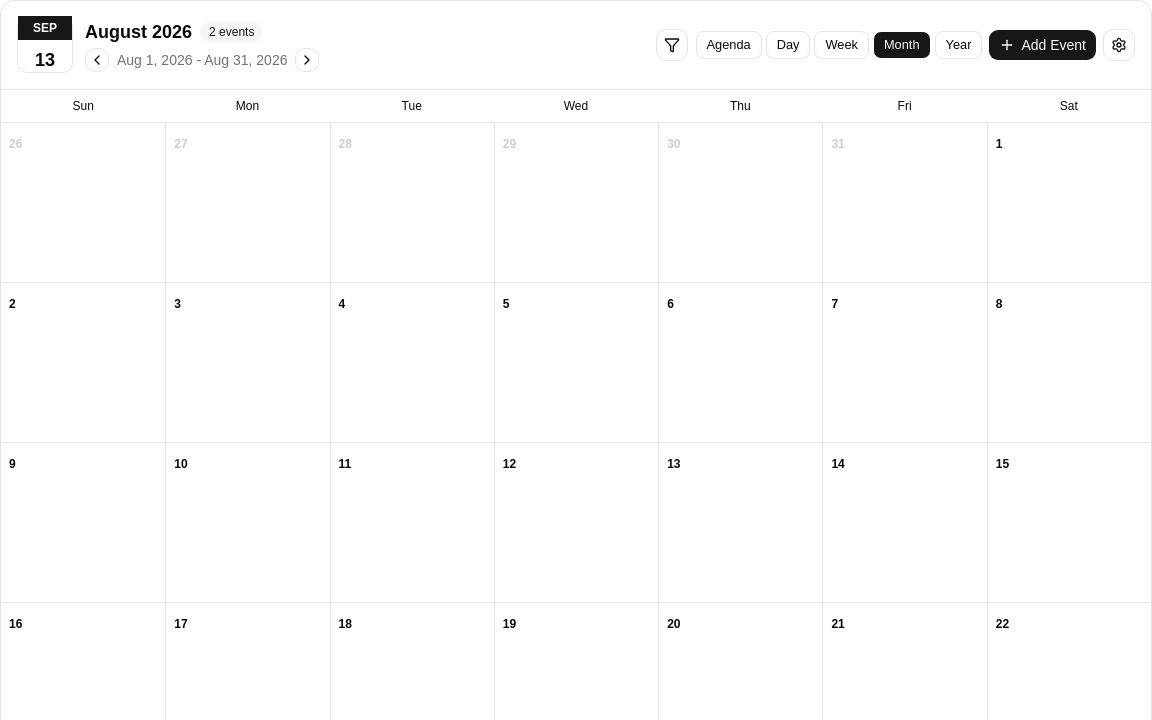
Scenario: EventCalendar › renders month events and can switch to week
Click the button with test id "calendar-view-week" at (842,45), box [814, 31, 869, 59]
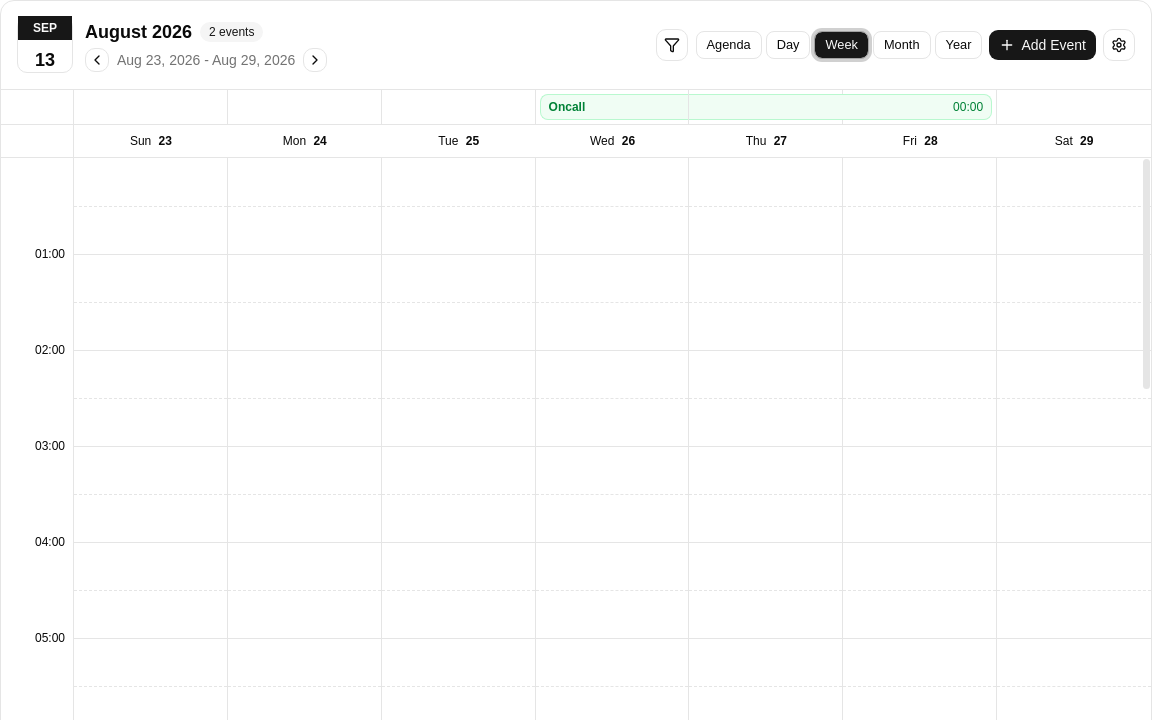
Check: the button with test id "calendar-event-2" reads "Oncall", box [540, 94, 688, 120]
Check: the element with test id "calendar-all-day" is shown, box [1, 90, 1151, 125]
